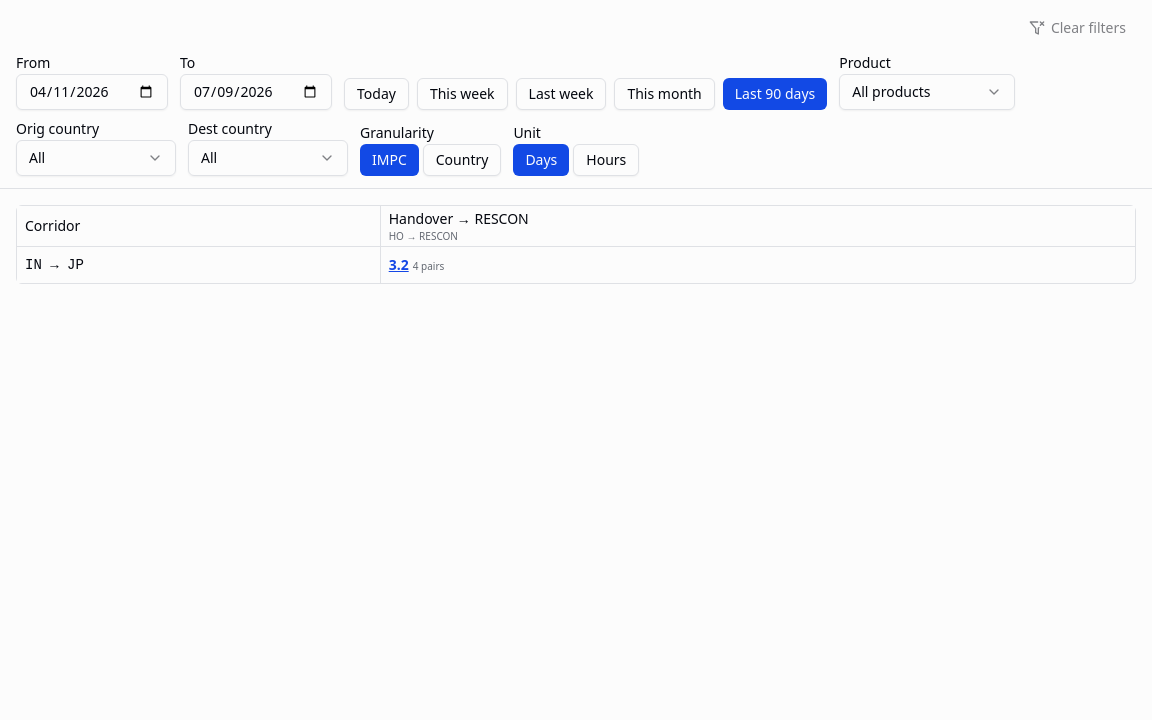
Test case: EventGapsPage › renders the matrix and opens the detail dialog on cell click
The image size is (1152, 720).
Click the button "3.2".
click(399, 264)  # box [389,254,409,274]
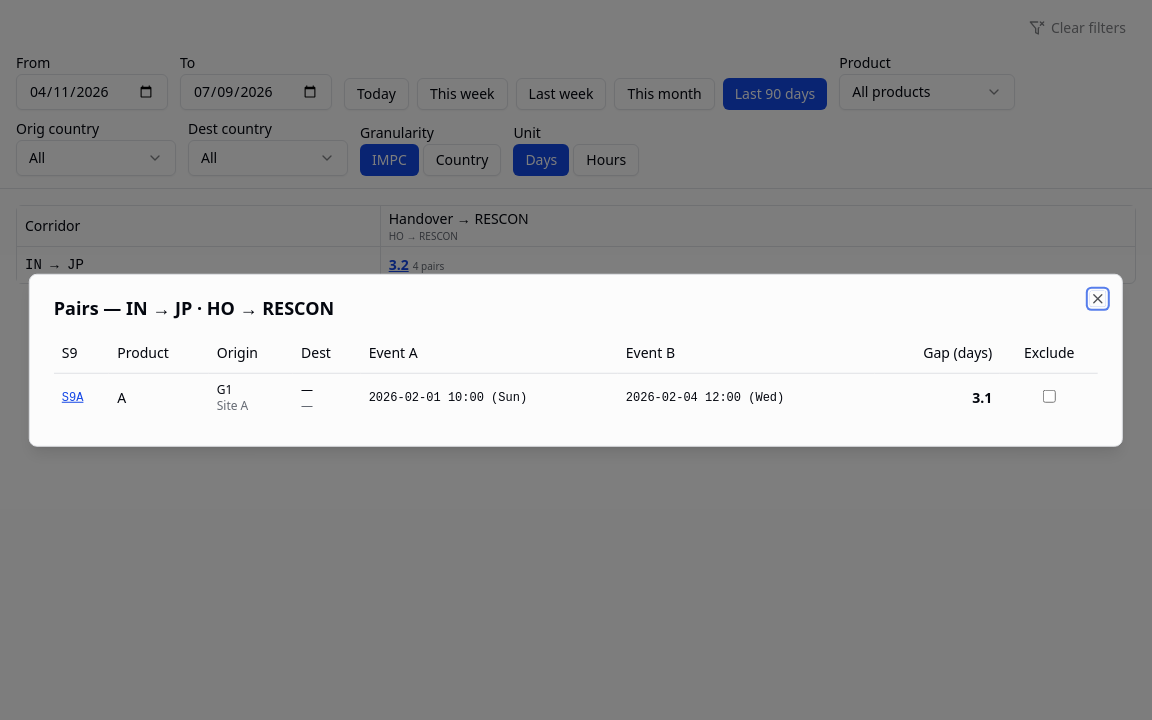
Result: the button "S9A" is shown at [62,389,83,405]
Result: the heading "Pairs — IN → JP · HO → RESCON" is shown at [54,296,334,320]
